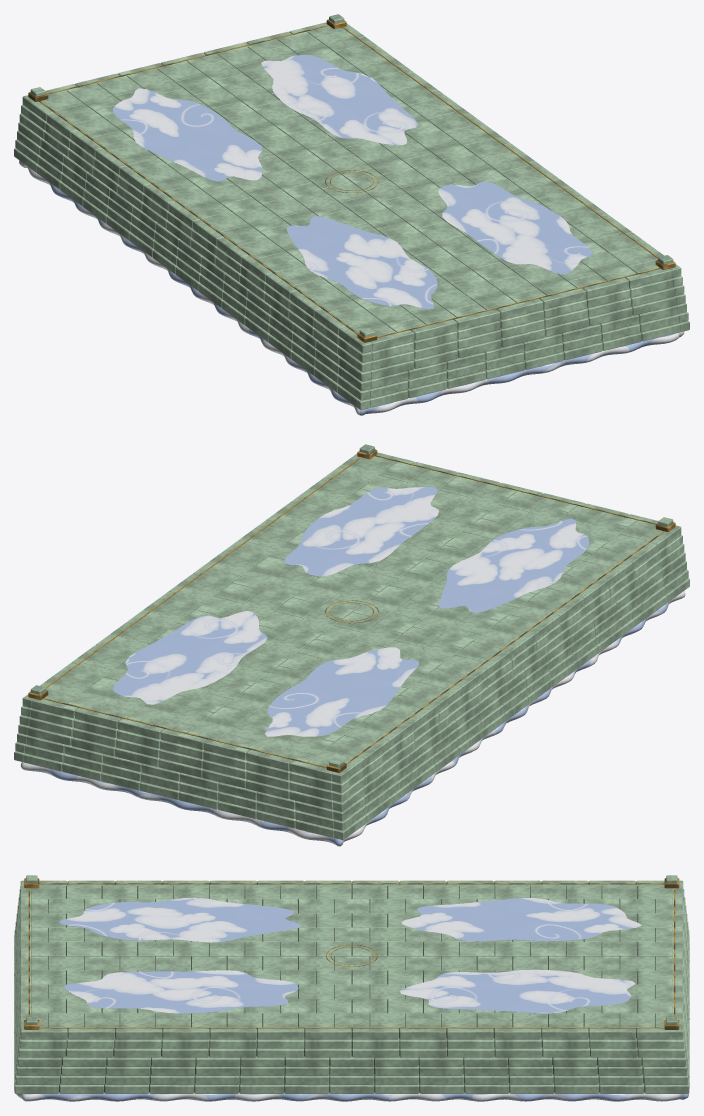
File: arena_08.fbx
3 renders of one model, top to bottom at view 1: azimuth 30°, elevation 25°; view 2: azimuth 150°, elevation 25°; view 3: azimuth 270°, elevation 25°, orthographic. The views are drawn at different scales.
Parts seen in each view (by area): view 1: arena_08; view 2: arena_08; view 3: arena_08.
Boxes of the visible parts, x1,y1,x2,y2 form: arena_08: (14,14,689,415); arena_08: (14,444,689,846); arena_08: (14,875,689,1101).
Bounding box in the file's own units: 54818 × 99813 × 12450.
